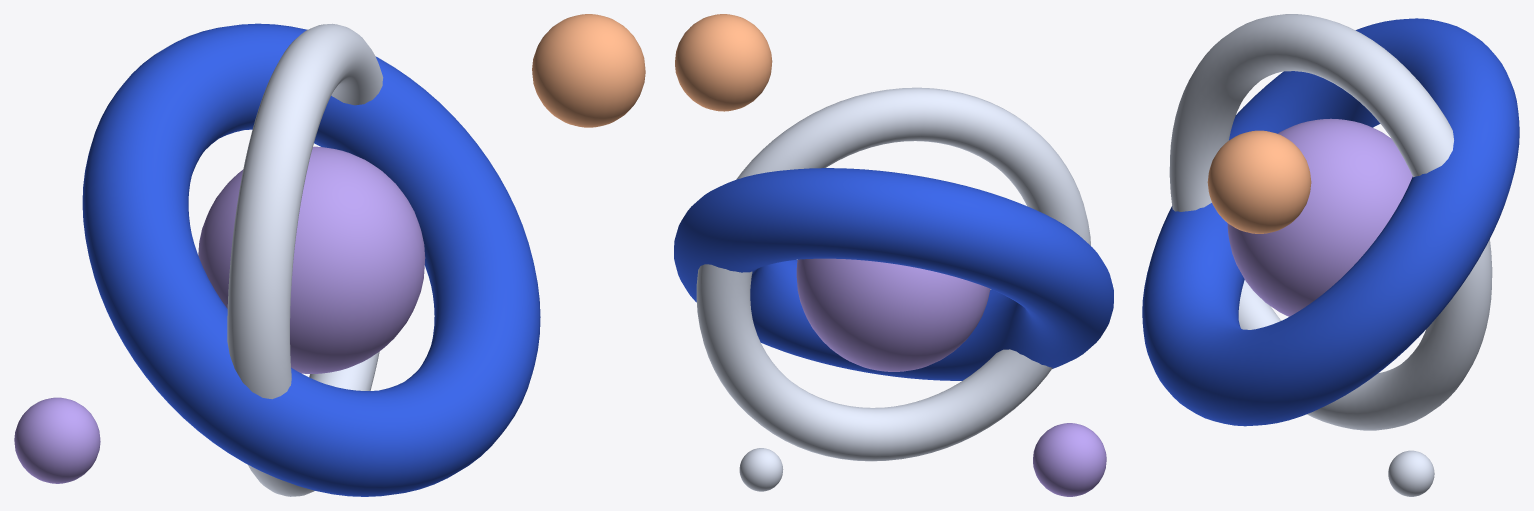
File: orbit.glb
3 views of the same model, side by side, from view 1: azimuth 30°, elevation 25°; view 2: azimuth 150°, elevation 25°; view 3: azimuth 270°, elevation 25° (orthographic). The views are drawn at different scales.
Visible parts, largest first — view 1: Cobalt orbit, Silver intersecting orbit, Idea core, Apricot satellite, Lavender satellite; view 2: Cobalt orbit, Silver intersecting orbit, Idea core, Apricot satellite, Lavender satellite, Silver satellite; view 3: Cobalt orbit, Silver intersecting orbit, Idea core, Apricot satellite, Silver satellite.
Boxes of the visible parts, box(x1,y1,x2,y2) form: Cobalt orbit: box(82, 23, 540, 496); Silver intersecting orbit: box(227, 23, 383, 496); Idea core: box(198, 146, 425, 373); Apricot satellite: box(532, 14, 645, 127); Lavender satellite: box(14, 397, 100, 483); Cobalt orbit: box(674, 168, 1113, 380); Silver intersecting orbit: box(696, 87, 1090, 461); Idea core: box(796, 258, 990, 371); Apricot satellite: box(675, 14, 772, 111); Lavender satellite: box(1033, 423, 1106, 496); Silver satellite: box(739, 448, 783, 491); Cobalt orbit: box(1142, 18, 1519, 426); Silver intersecting orbit: box(1169, 14, 1492, 430); Idea core: box(1227, 118, 1412, 316); Apricot satellite: box(1207, 130, 1311, 233); Silver satellite: box(1388, 450, 1434, 496).
Bounding box in the file's own units: 3.26 × 2.59 × 2.11.
